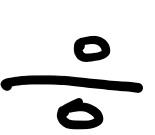div: (1, 36, 143, 129)
